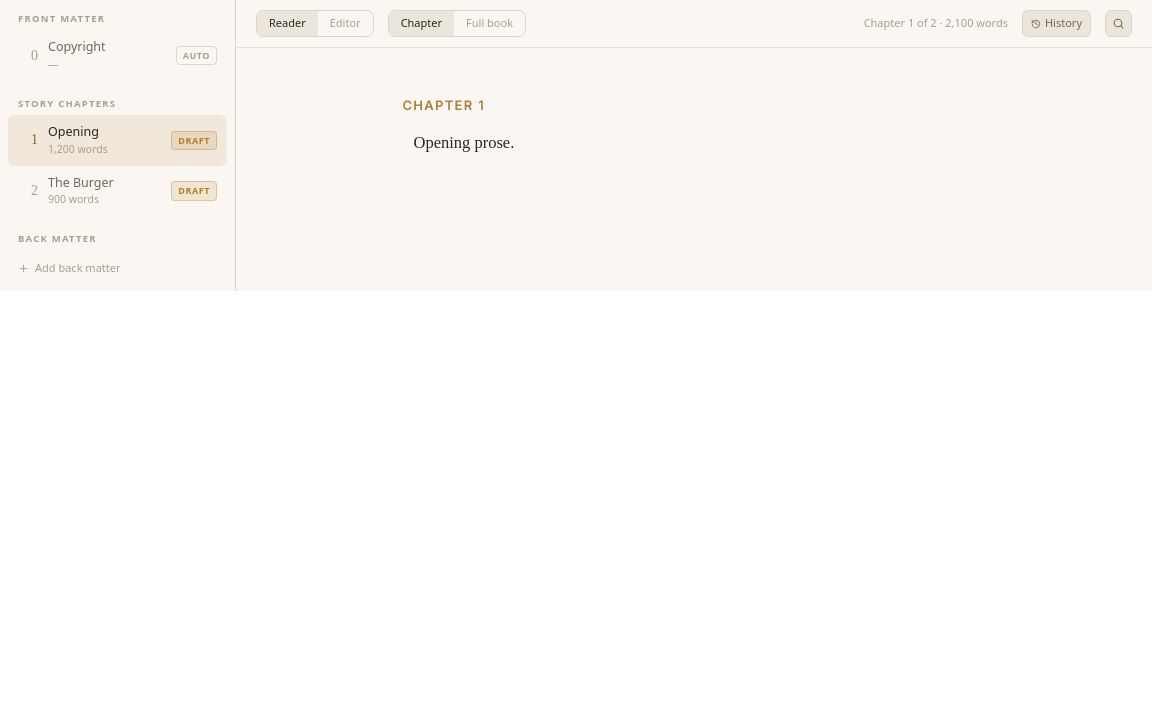
Test: ManuscriptView › shows the tracked-edit banner for Verity drafts (chapter 02+) and opens the edits modal
Check: the text "Opening prose." is shown, box [414,132,514,152]
Click the text "The Burger".
click(81, 182)  # box [48,174,114,190]
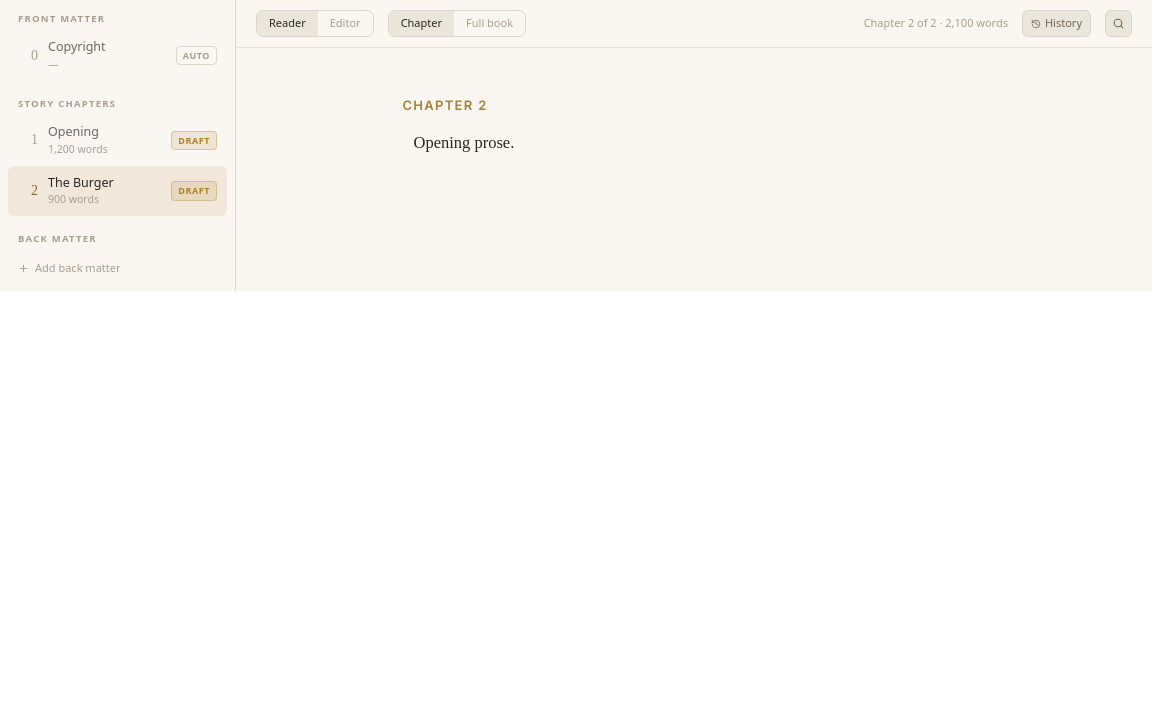
Click the button "Editor".
click(345, 24)  # box [318,11,373,36]
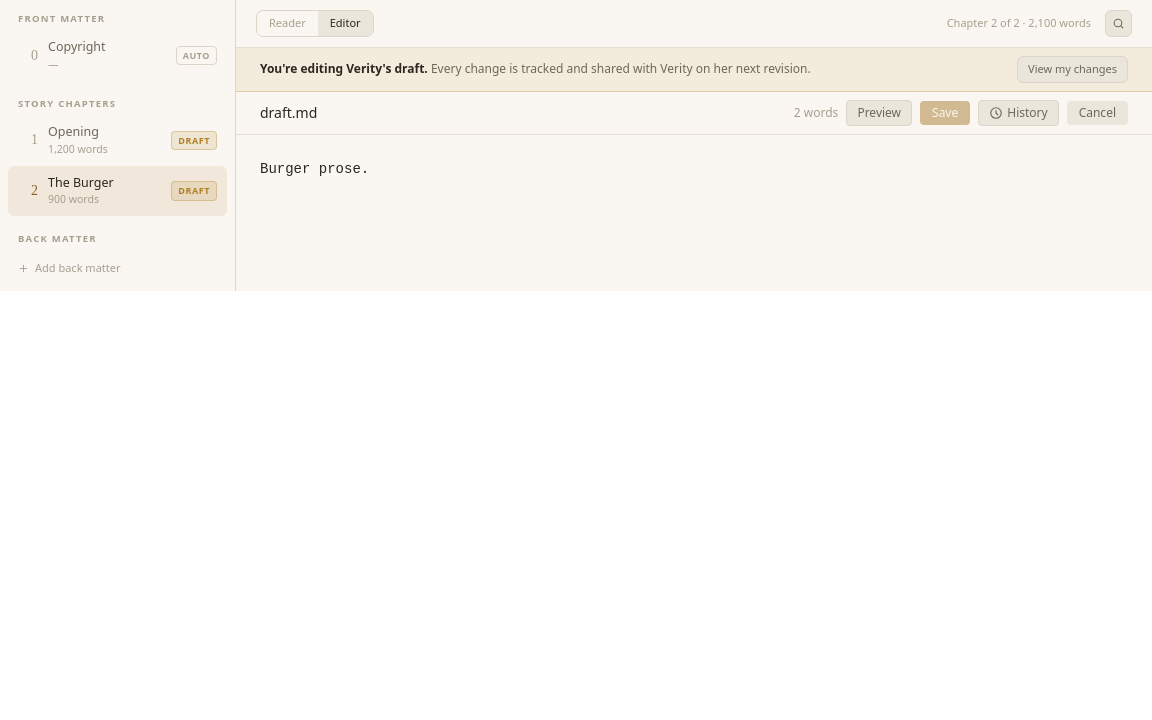
Check: the text "You're editing Verity's draft." is shown, box [260,60,428,77]
Click the button "View my changes".
click(1072, 69)  # box [1017,56,1128,82]
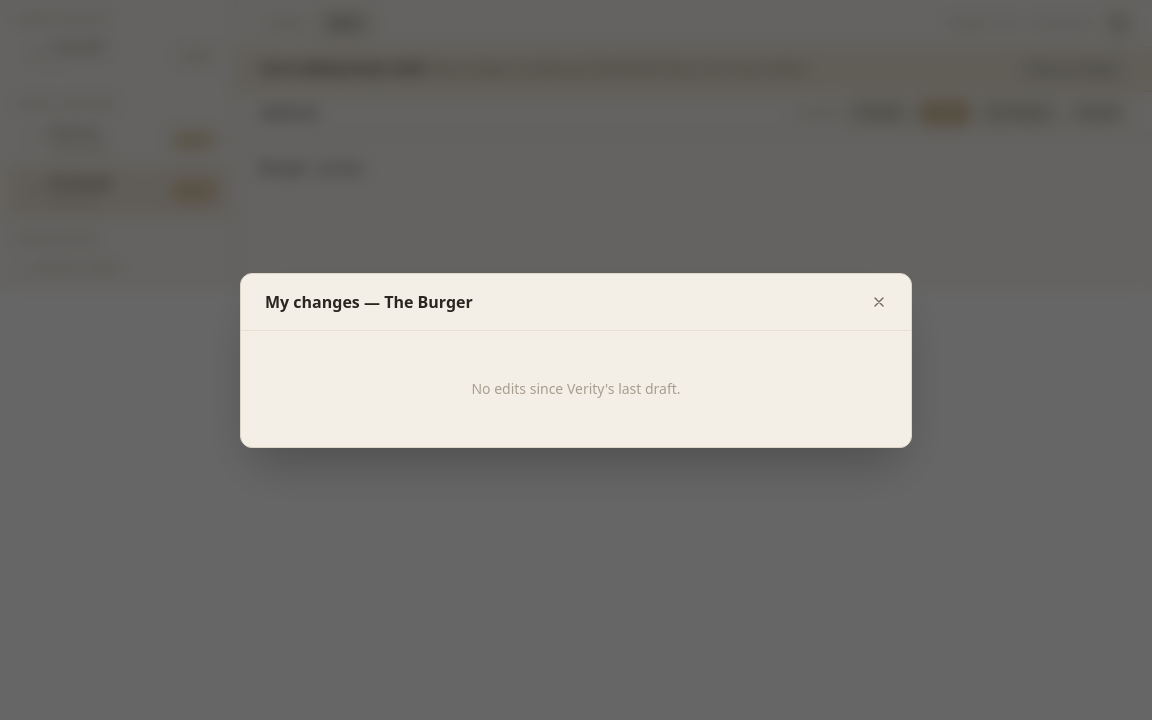
Check: the text "No edits since Verity's last draft." is shown, box [471,378,681,398]
